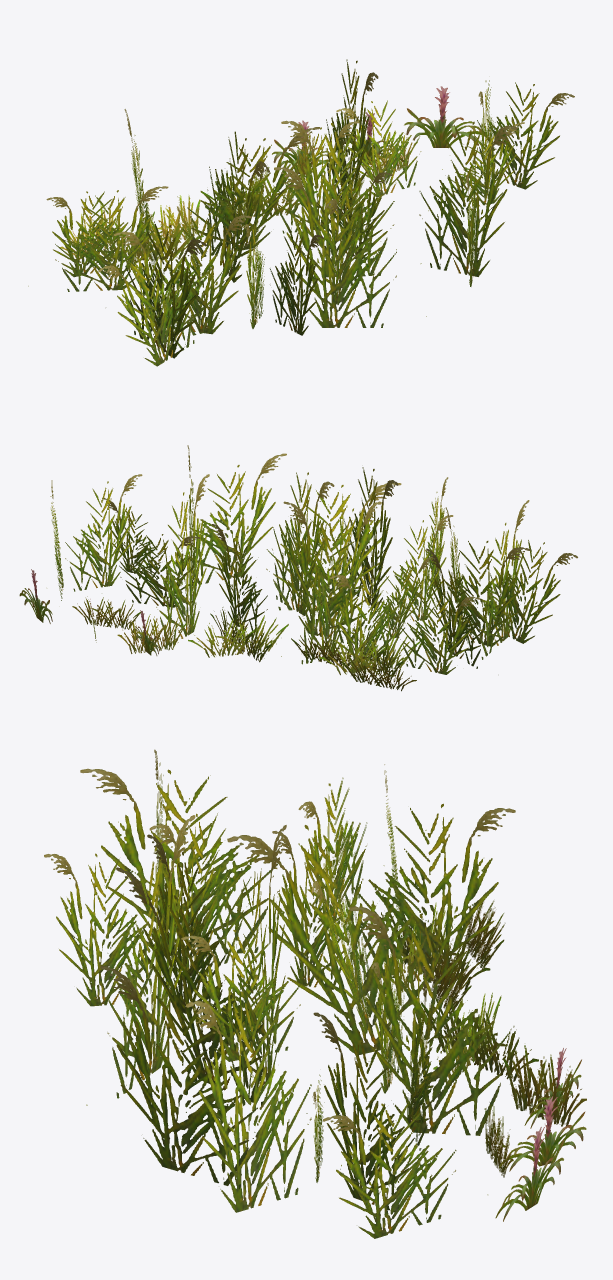
File: DN_grass06.FBX
The picture shows the model from 3 angles, top to bottom: view 1: azimuth 30°, elevation 25°; view 2: azimuth 150°, elevation 25°; view 3: azimuth 270°, elevation 25°; orthographic projection. The views are drawn at different scales.
Parts seen in each view (by area): view 1: DN_grass06; view 2: DN_grass06; view 3: DN_grass06.
Part boxes in pixels (bbox=[...]): DN_grass06: bbox=[28, 59, 574, 366]; DN_grass06: bbox=[19, 445, 577, 691]; DN_grass06: bbox=[44, 749, 586, 1238].
Bounding box in the file's own units: 203 × 74.53 × 127.
1 material, 1 textured.
